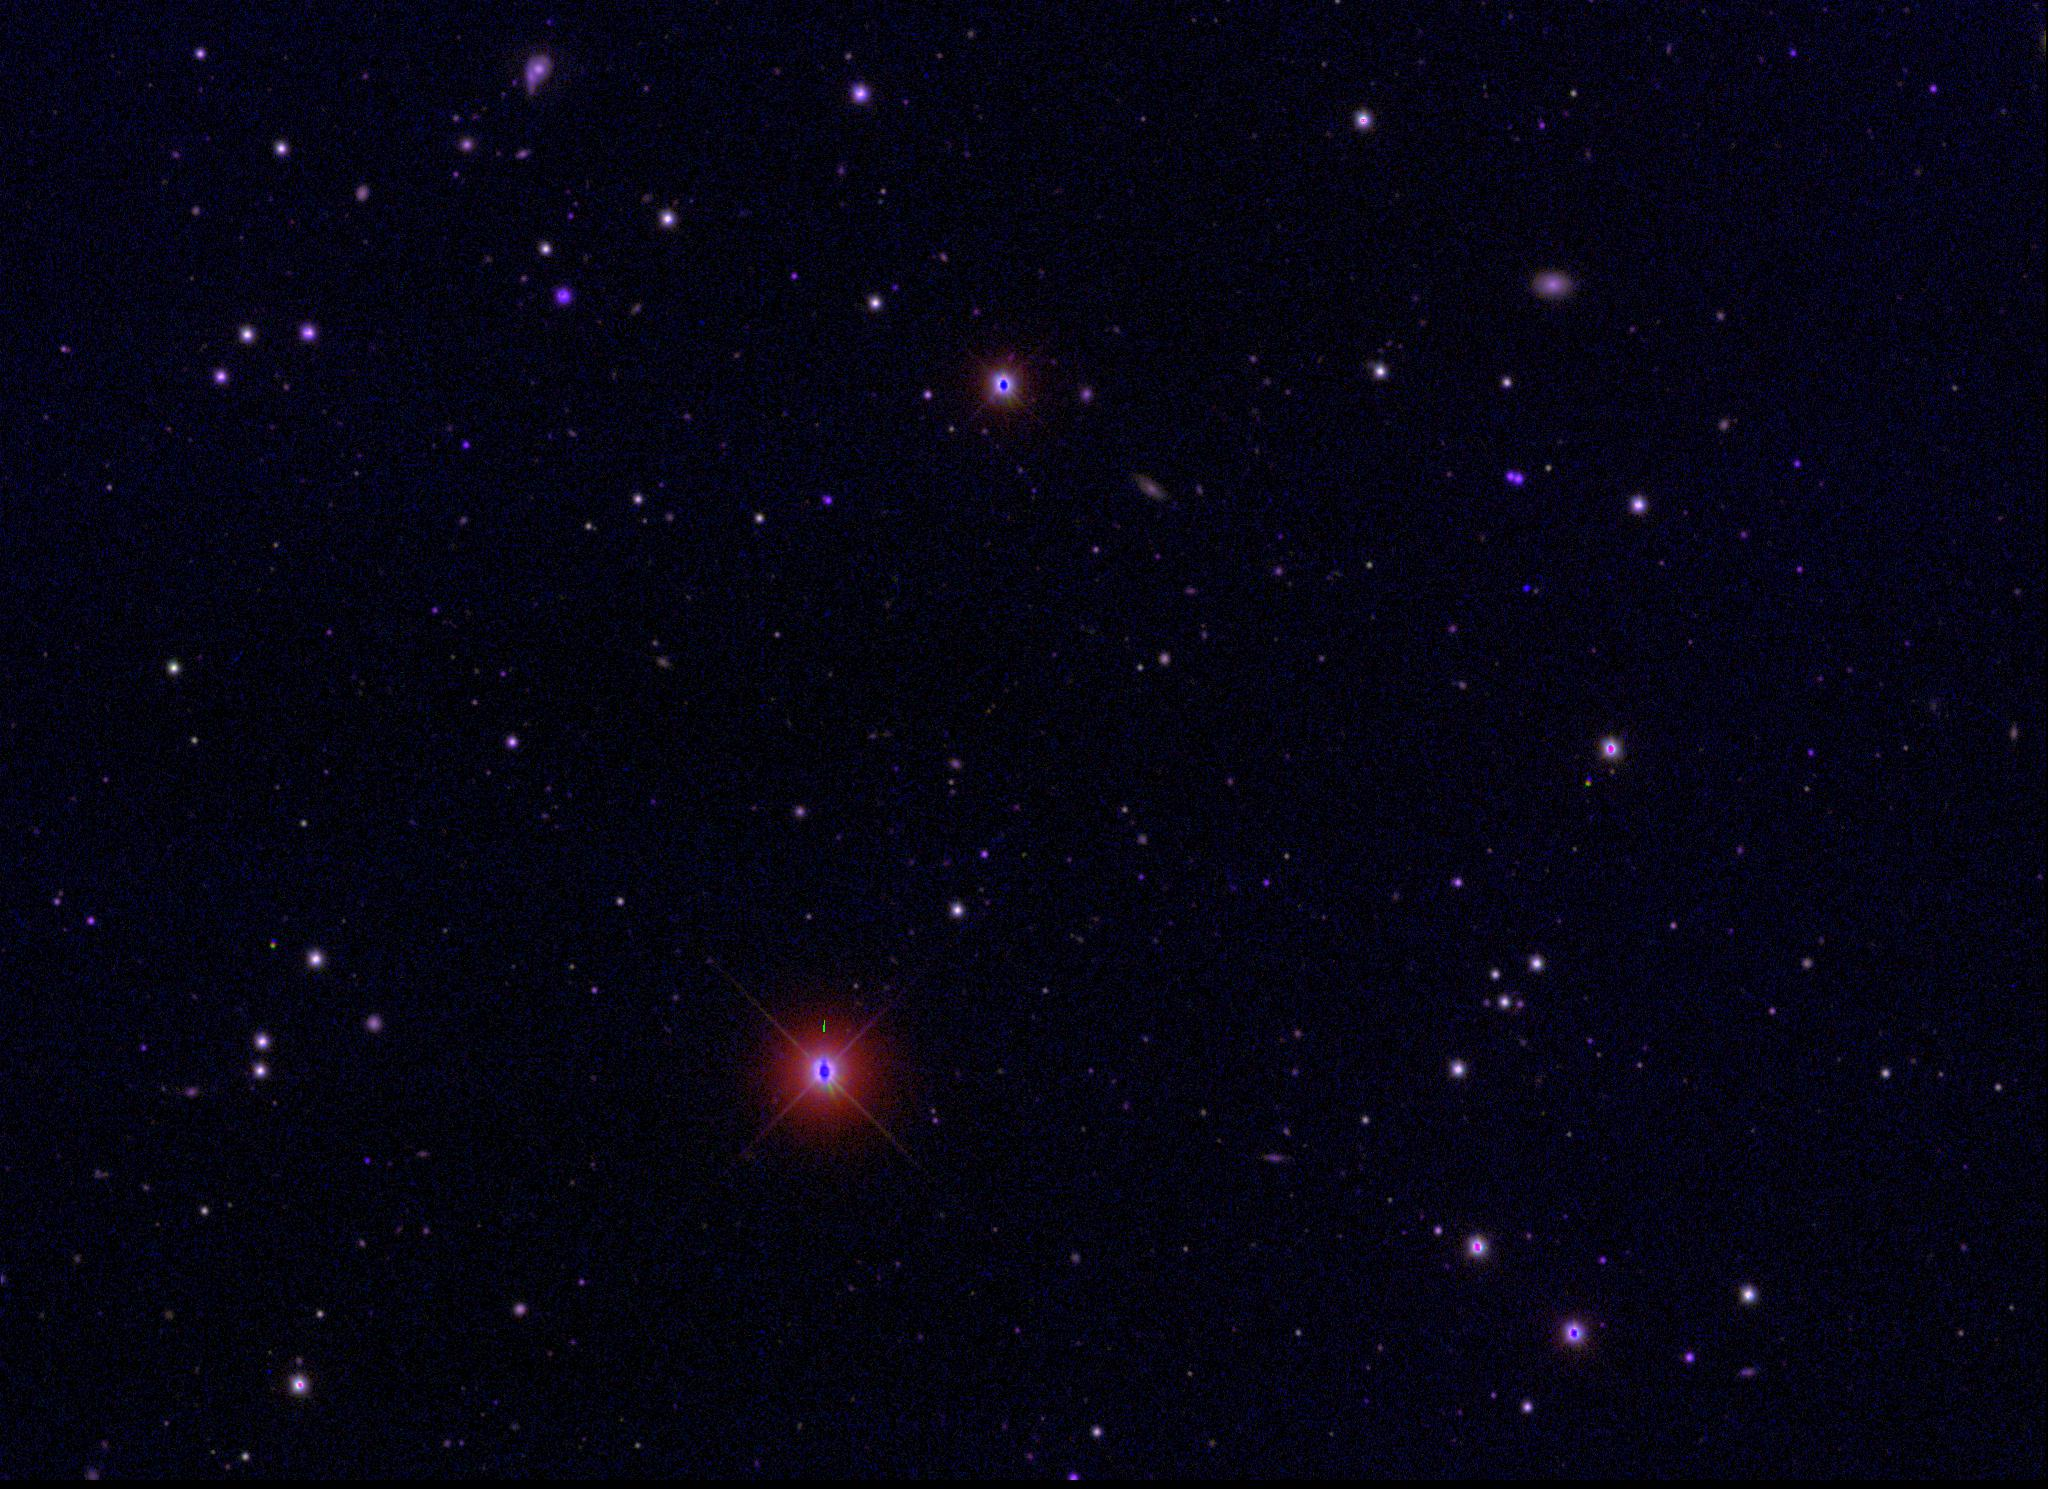L: (1519, 581, 1533, 595)
